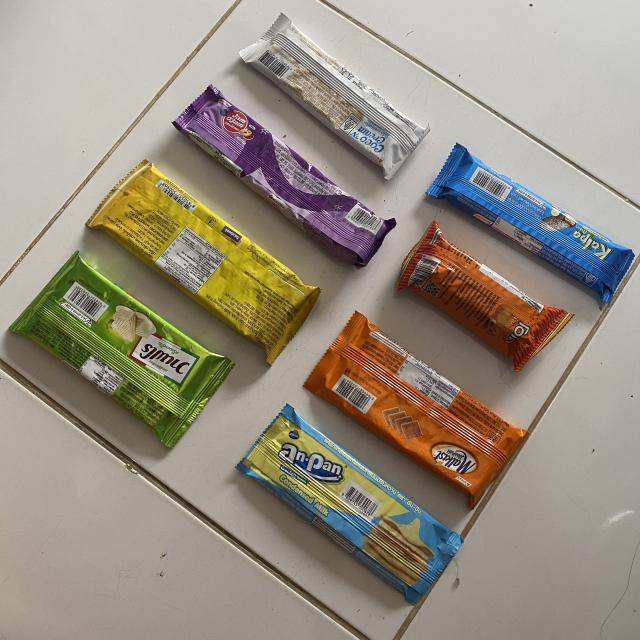plastik: (88, 160, 320, 364), (236, 405, 462, 604), (10, 251, 234, 448), (304, 311, 526, 509), (172, 85, 396, 268), (426, 144, 634, 304), (240, 14, 430, 179), (398, 221, 574, 371)
